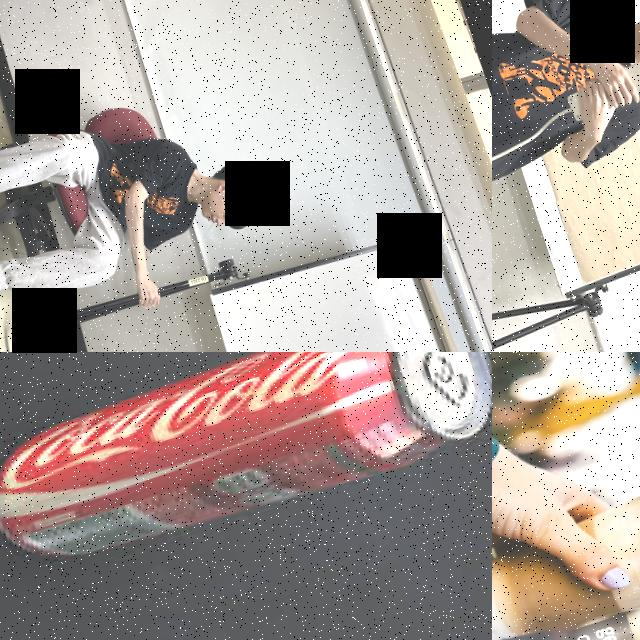can: (0, 352, 492, 597)
cup: (492, 472, 640, 640)
